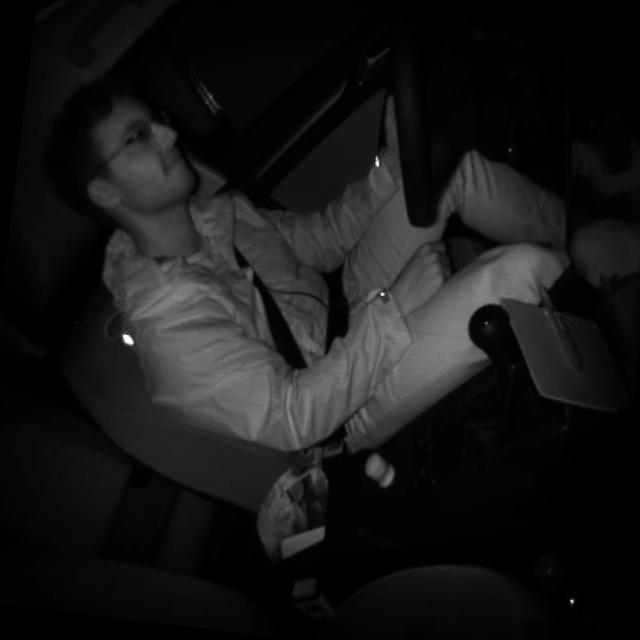pen: (526, 278, 598, 376)
